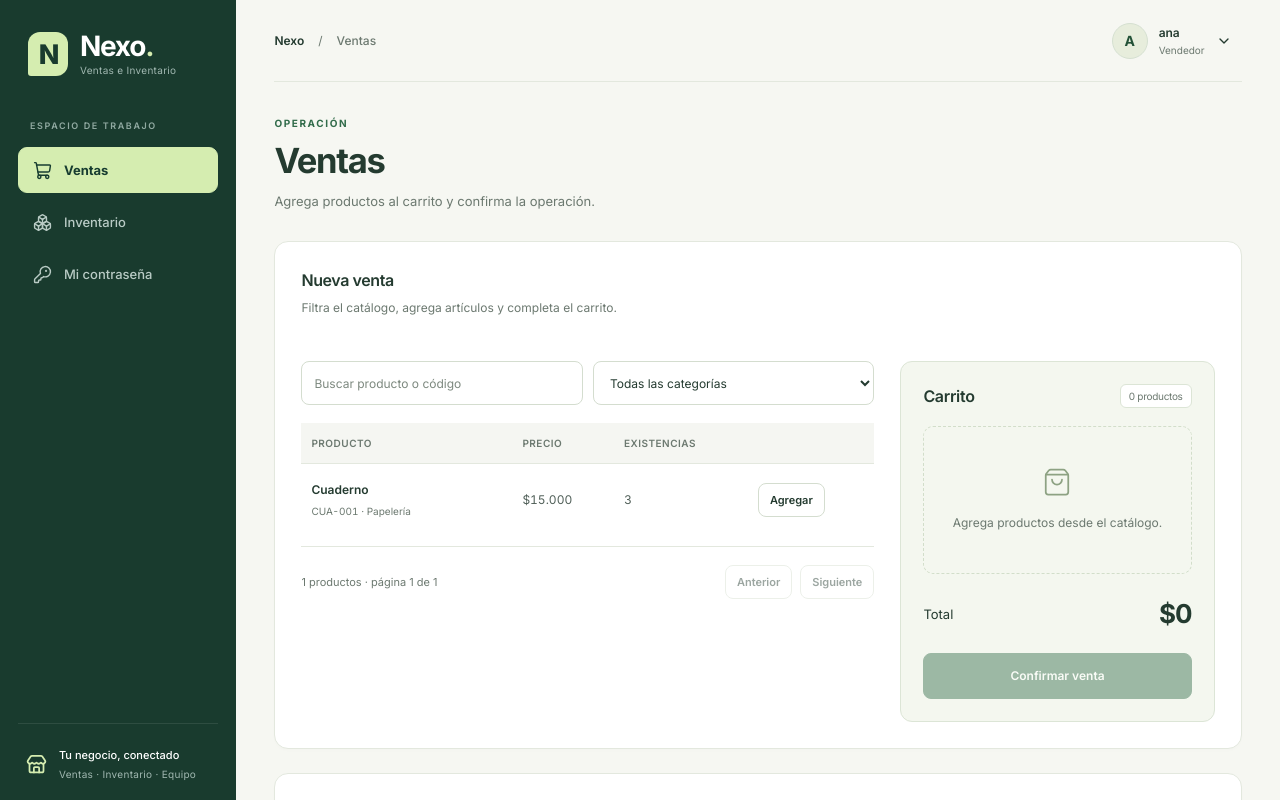
it: vendedor recupera sesión y solo encuentra sus opciones de navegación
Expected: the navigation bar named "Navegación principal" shows "Ventas", [18,147,218,193]
Expected: the navigation bar named "Navegación principal" does not show "Productos", [18,147,218,297]
Click the button "Mi contraseña" at {"x": 118, "y": 274}, box [18,251,218,297]
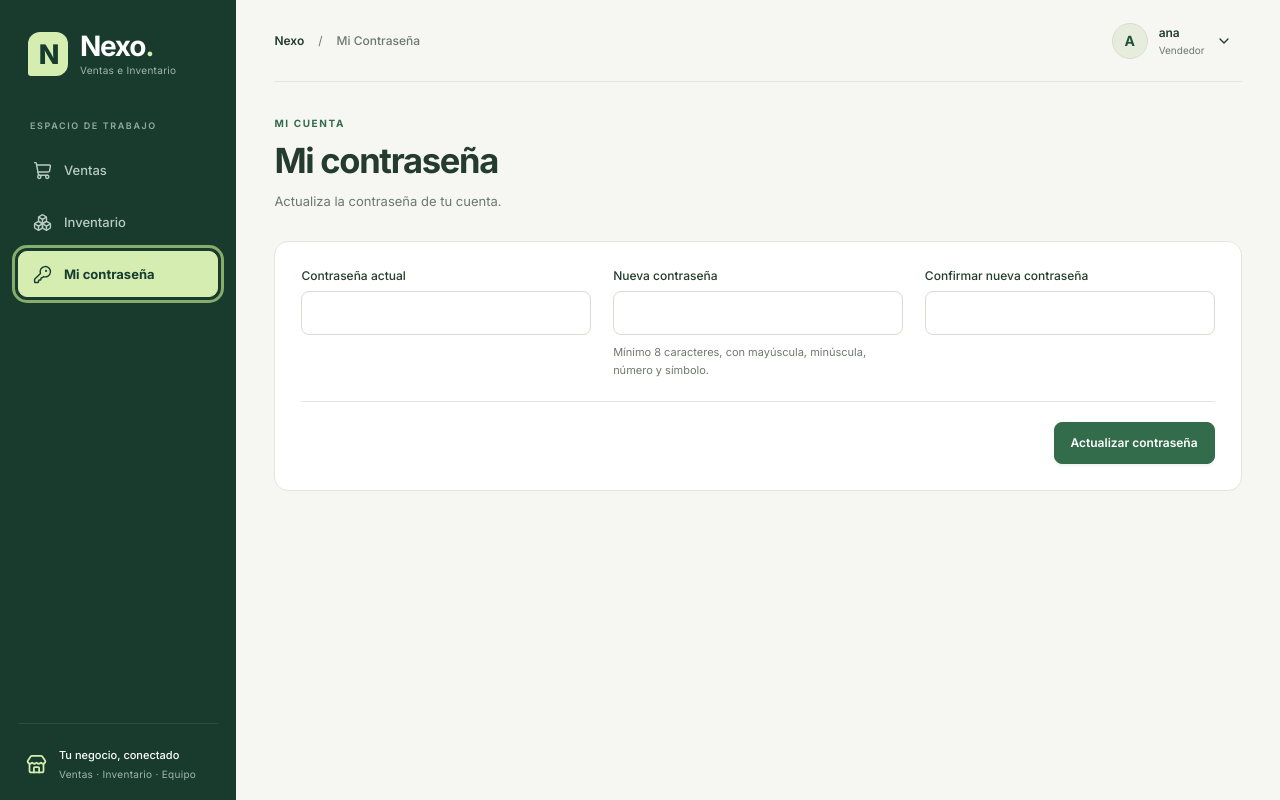
Now the heading "Mi contraseña" is shown, box [274,140,502,182]
